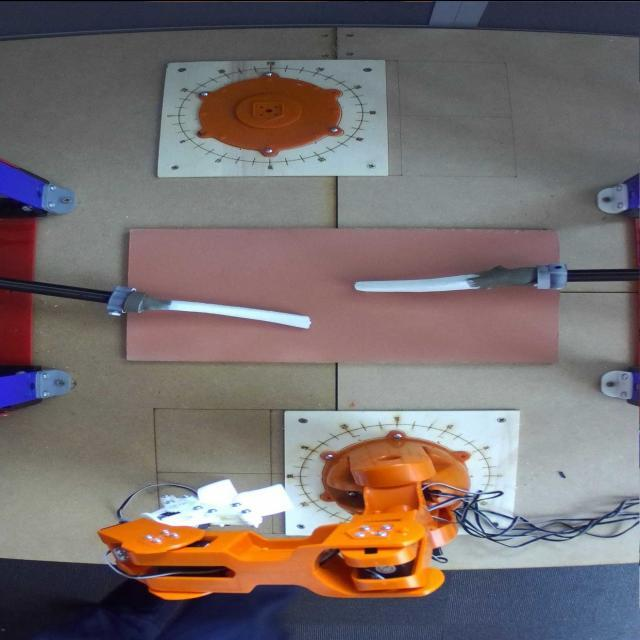bone: (147, 288, 316, 334), (352, 264, 508, 294)
